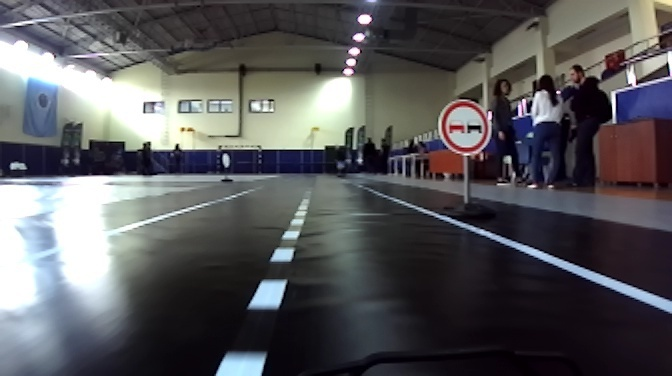sollama_yasak: (436, 99, 493, 156)
